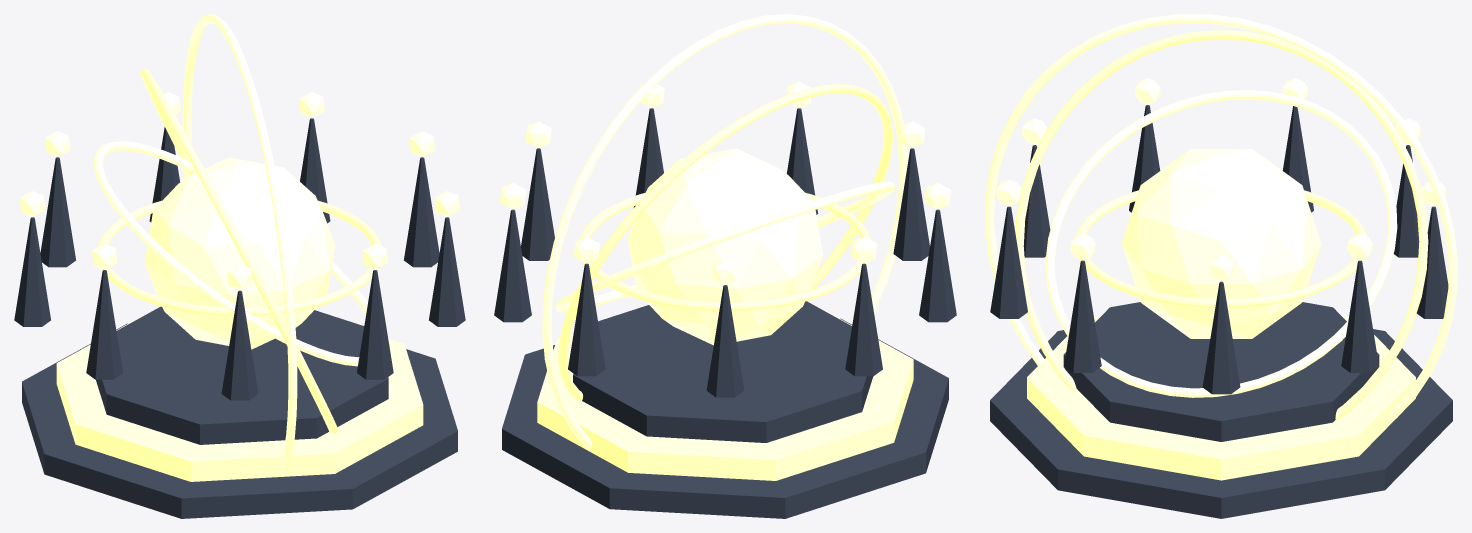
Rendered from gpu-blender-v33.glb.
The picture shows the model from 3 angles, left to right: view 1: azimuth 30°, elevation 25°; view 2: azimuth 150°, elevation 25°; view 3: azimuth 270°, elevation 25°; orthographic projection. The views are drawn at different scales.
Parts seen in each view (by area): view 1: Cylinder.002, Cylinder, SovereignCore_sovereign-agent-bridge, Cylinder.001, Torus.003, Torus.001, Torus.002, Torus, Cone.006, Cone, Cone.003, Cone.005 (+13 smaller); view 2: Cylinder.002, SovereignCore_sovereign-agent-bridge, Cylinder, Cylinder.001, Torus.003, Torus.002, Torus.001, Torus, Cone.002, Cone.004, Cone.001, Cone.005 (+12 smaller); view 3: SovereignCore_sovereign-agent-bridge, Cylinder.002, Cylinder, Cylinder.001, Torus.003, Torus.002, Torus.001, Torus, Cone, Cone.007, Cone.001, Cone.008 (+9 smaller).
Part boxes in pixels (box(x1,y1,x2,y2)): Cylinder.002: box(96, 306, 388, 444); Cylinder: box(22, 323, 457, 518); SovereignCore_sovereign-agent-bridge: box(144, 157, 335, 349); Cylinder.001: box(56, 314, 423, 481); Torus.003: box(182, 14, 297, 474); Torus.001: box(93, 141, 367, 366); Torus.002: box(140, 68, 338, 433); Torus: box(98, 200, 381, 316); Cone.006: box(221, 290, 258, 400); Cone: box(404, 157, 439, 267); Cone.003: box(40, 157, 75, 267); Cone.005: box(86, 270, 122, 379); Cylinder.002: box(573, 301, 873, 442); SovereignCore_sovereign-agent-bridge: box(627, 148, 823, 345); Cylinder: box(502, 318, 948, 518); Cylinder.001: box(537, 309, 913, 480); Torus.003: box(542, 14, 908, 450); Torus.002: box(558, 84, 892, 401); Torus.001: box(556, 181, 894, 312); Torus: box(580, 192, 870, 311); Cone.002: box(568, 263, 605, 376); Cone.004: box(845, 263, 882, 376); Cone.001: box(494, 209, 531, 322); Cone.005: box(919, 209, 956, 322); SovereignCore_sovereign-agent-bridge: box(1121, 149, 1321, 338); Cylinder.002: box(1063, 302, 1379, 441); Cylinder: box(990, 329, 1452, 518); Cylinder.001: box(1027, 316, 1415, 480); Torus.003: box(985, 14, 1457, 422); Torus.002: box(1015, 30, 1428, 421); Torus.001: box(1045, 90, 1397, 397); Torus: box(1076, 190, 1366, 308); Cone: box(1202, 281, 1240, 394); Cone.007: box(990, 206, 1027, 318); Cone.001: box(1341, 260, 1378, 372); Cone.008: box(1064, 260, 1101, 372).
Size of the model in its own units: 4.41 by 4.7 by 4.49.
